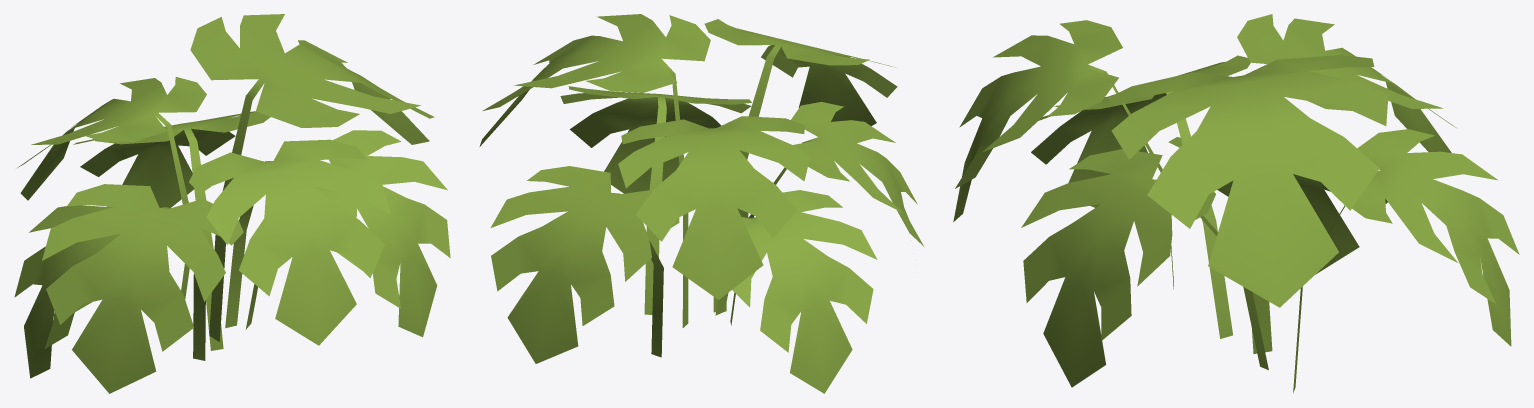
The model's file is Houseplant.fbx.
The picture shows the model from 3 angles, left to right: view 1: azimuth 30°, elevation 25°; view 2: azimuth 150°, elevation 25°; view 3: azimuth 270°, elevation 25°; orthographic projection. The views are drawn at different scales.
Visible parts, largest first — view 1: Houseplant_7; view 2: Houseplant_7; view 3: Houseplant_7.
Boxes of the visible parts, bbox=[...] form: Houseplant_7: bbox=[14, 14, 450, 393]; Houseplant_7: bbox=[479, 14, 924, 393]; Houseplant_7: bbox=[953, 14, 1519, 393].
Bounding box in the file's own units: 117 × 82.17 × 122.
